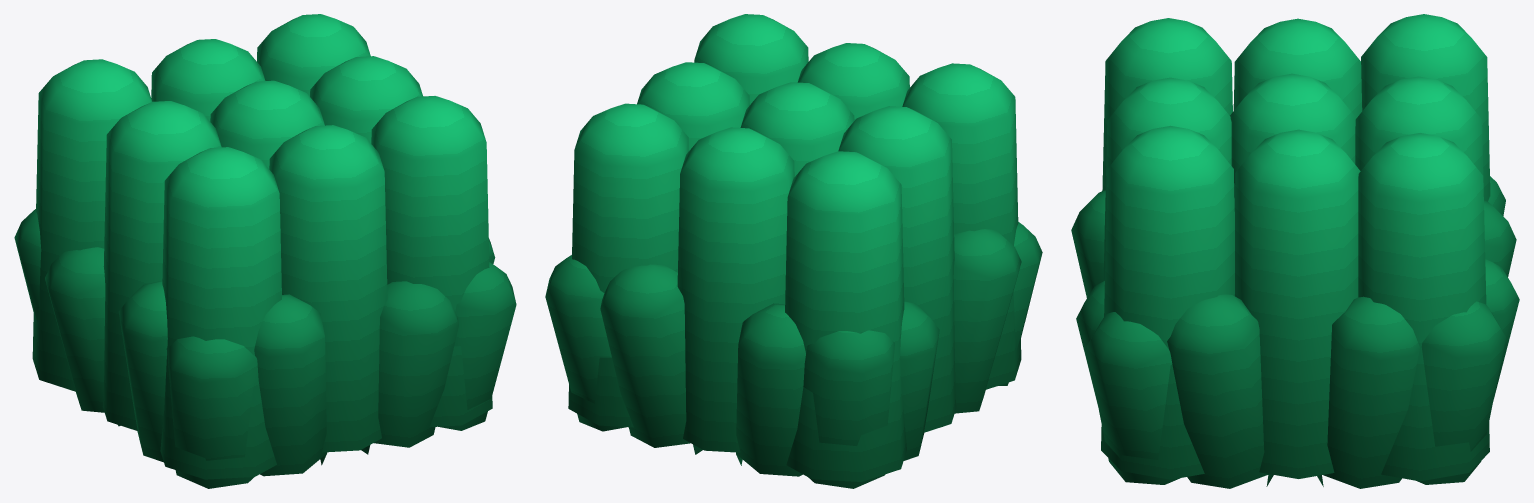
The model's file is bush_1x1.glb.
The picture shows the model from 3 angles, left to right: view 1: azimuth 30°, elevation 25°; view 2: azimuth 150°, elevation 25°; view 3: azimuth 270°, elevation 25°; orthographic projection. The views are drawn at different scales.
Visible parts, largest first — view 1: bush_1x1; view 2: bush_1x1; view 3: bush_1x1.
Part boxes in pixels (x1=…): bush_1x1: x1=14, y1=14, x2=516, y2=488; bush_1x1: x1=545, y1=14, x2=1042, y2=488; bush_1x1: x1=1071, y1=14, x2=1519, y2=488.
Size of the model in its own units: 1.16 by 0.9721 by 1.16.
Materials: 1 (1 with a texture image).
